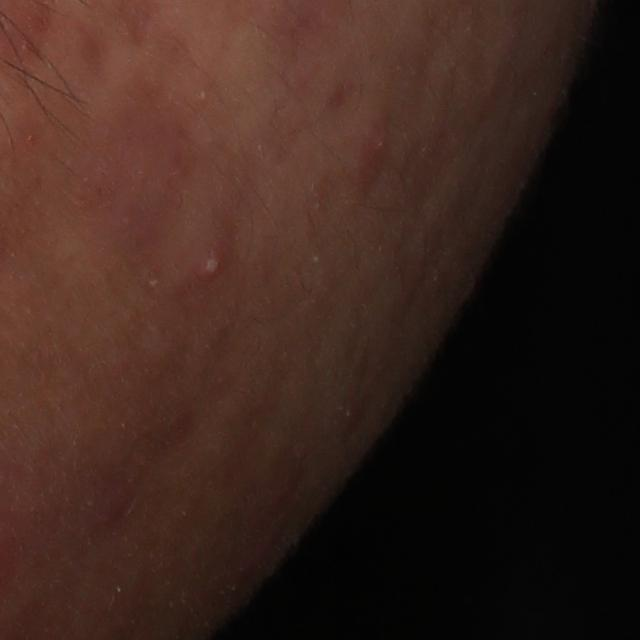papule: (92, 480, 134, 532), (358, 119, 393, 173)
pustule: (192, 241, 232, 283)
